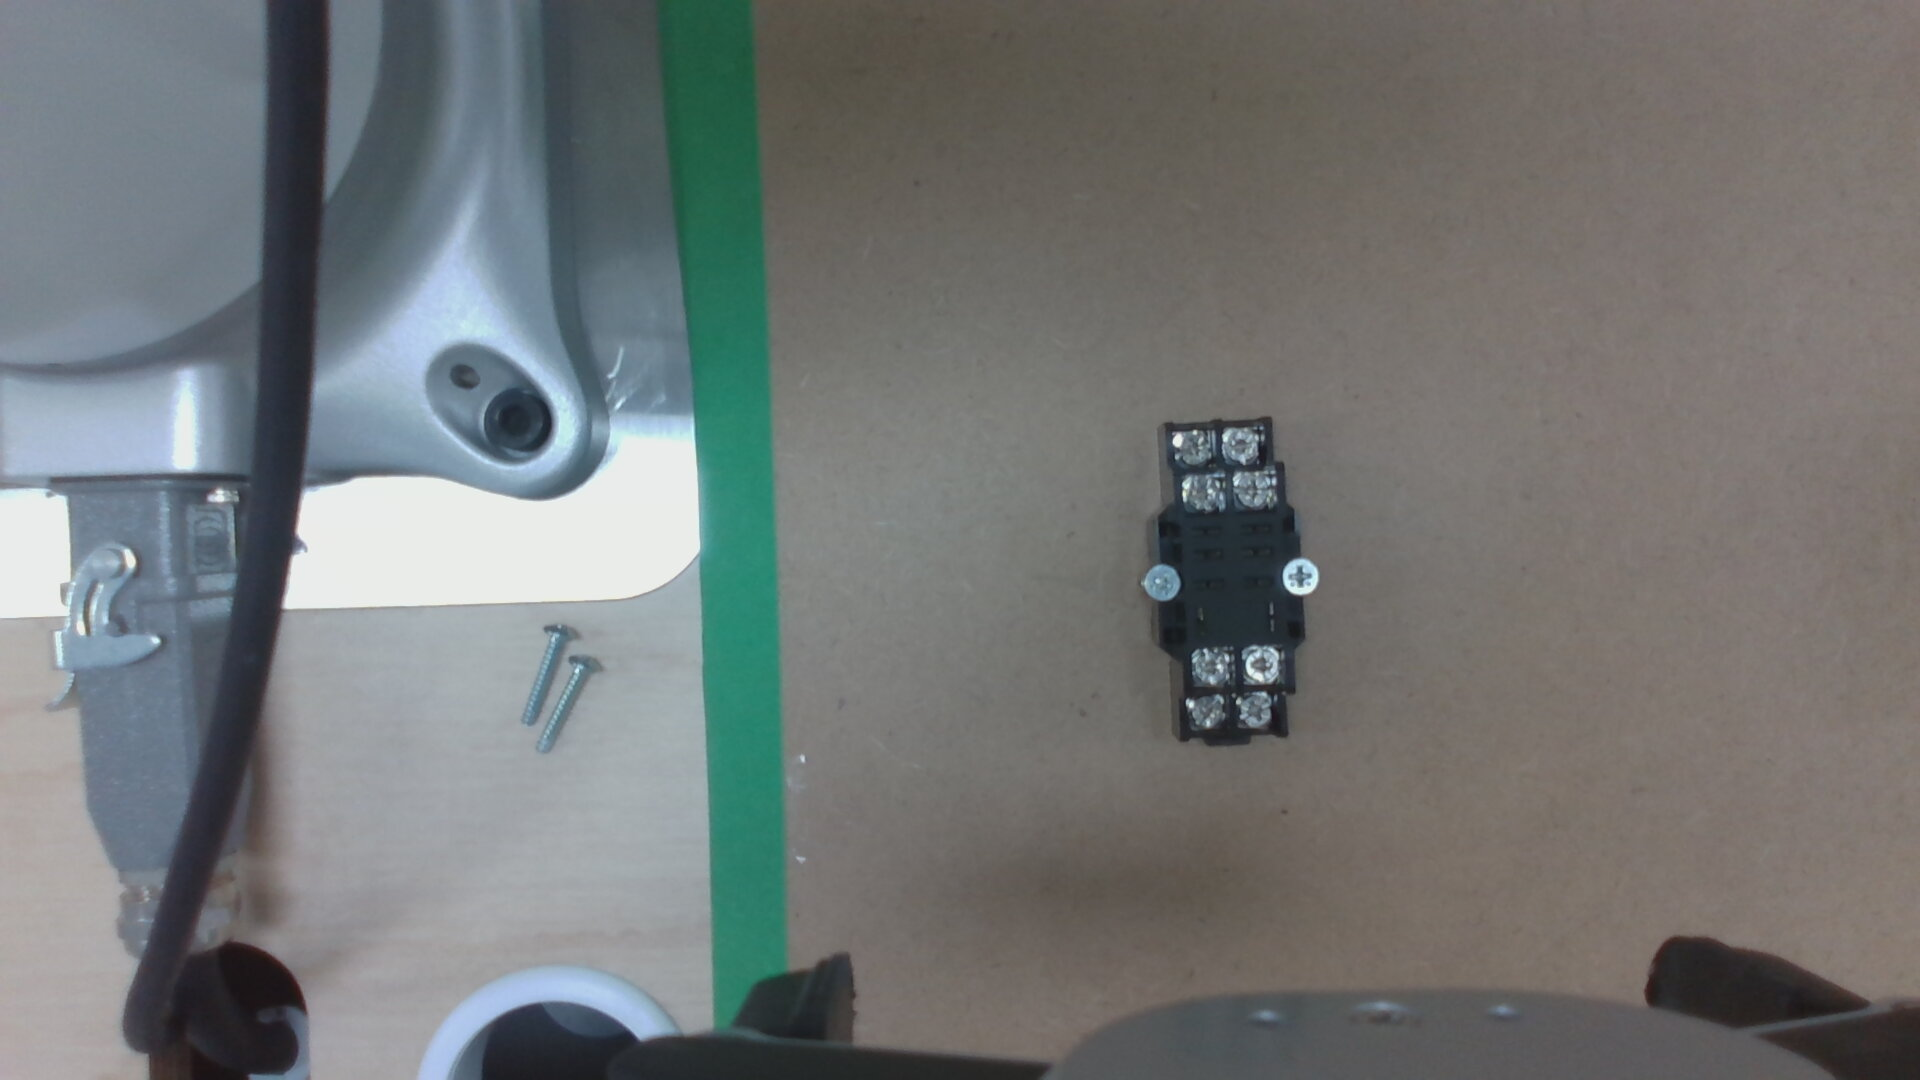relay 3: (1222, 429, 1262, 463)
relay 4: (1172, 433, 1213, 465)
relay 5: (1236, 694, 1275, 729)
relay 6: (1187, 698, 1226, 729)
relay 7: (1244, 649, 1280, 683)
relay 8: (1189, 650, 1232, 683)
